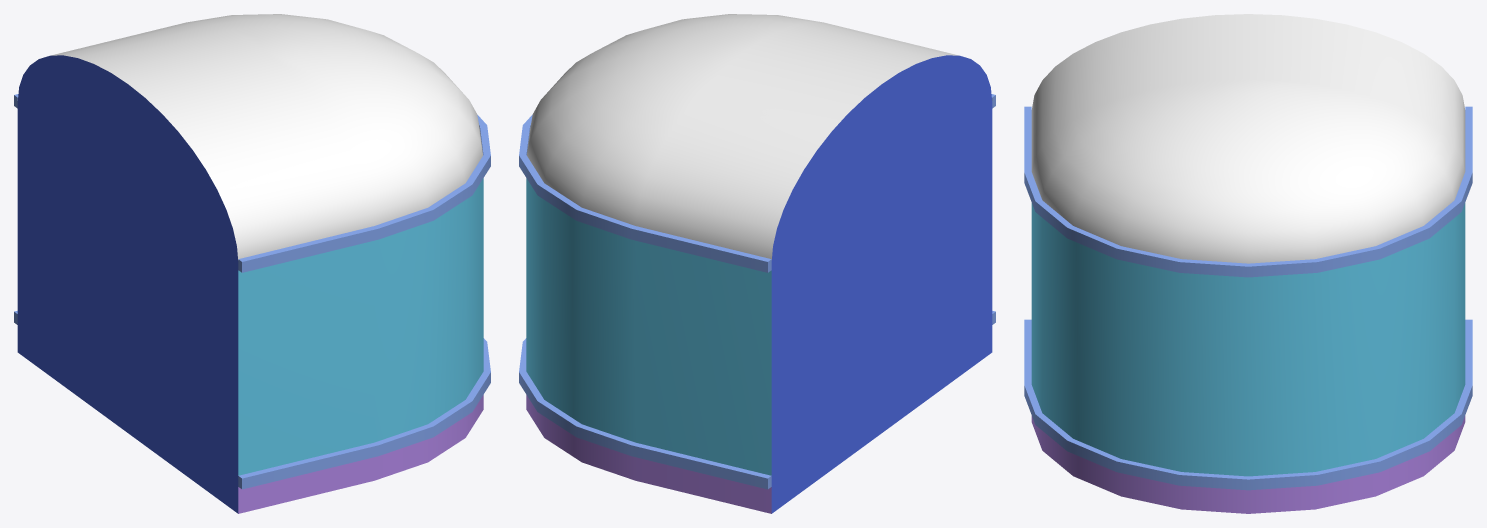
File: Building_041_b.fbx
3 views of the same model, side by side, from view 1: azimuth 30°, elevation 25°; view 2: azimuth 150°, elevation 25°; view 3: azimuth 270°, elevation 25° (orthographic).
Visible parts, largest first — view 1: Building_041_b; view 2: Building_041_b; view 3: Building_041_b.
Part boxes in pixels (bbox=[...]): Building_041_b: bbox=[14, 14, 490, 513]; Building_041_b: bbox=[519, 14, 995, 513]; Building_041_b: bbox=[1024, 14, 1472, 513].
Size of the model in its own units: 15.58 by 15.58 by 18.45.
